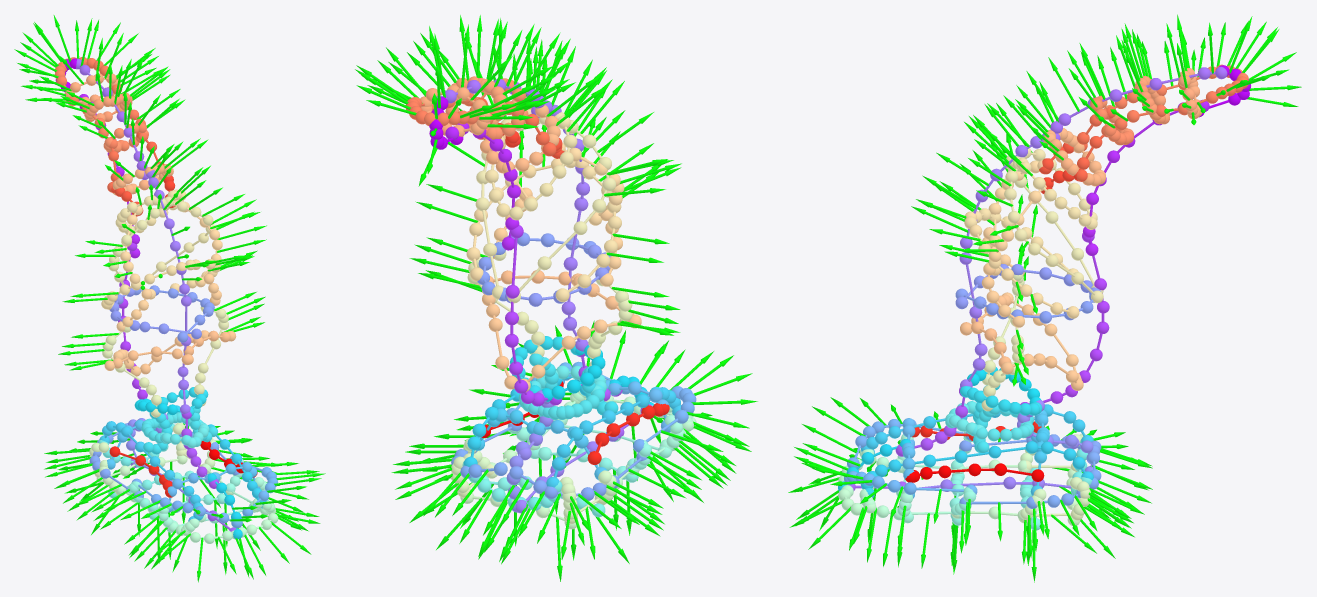
The model's file is cassie_vacuum.gltf.
3 renders of one model, left to right at view 1: azimuth 30°, elevation 25°; view 2: azimuth 150°, elevation 25°; view 3: azimuth 270°, elevation 25°, orthographic. The views are drawn at different scales.
Bounding box in the file's own units: 0.4436 × 0.93 × 0.8071.
